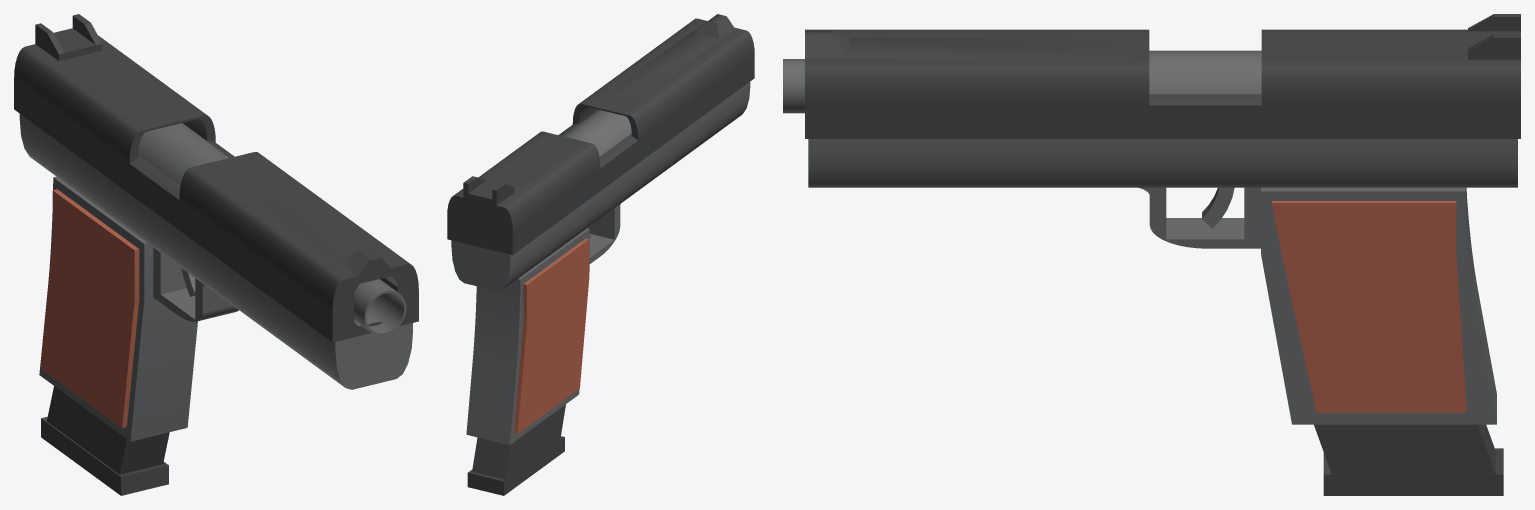
The model's file is pistol.fbx.
The picture shows the model from 3 angles, left to right: view 1: azimuth 30°, elevation 25°; view 2: azimuth 150°, elevation 25°; view 3: azimuth 270°, elevation 25°; orthographic projection. The views are drawn at different scales.
Parts seen in each view (by area): view 1: Cube.001, Cube, Cube.003, Cylinder, Cube.004; view 2: Cube, Cube.001, Cube.003, Cylinder, Cube.004; view 3: Cube, Cube.001, Cube.003, Cylinder, Cube.004.
Part boxes in pixels (x1,y1,x2,y2): Cube.001: (14, 14, 418, 342); Cube: (19, 114, 412, 441); Cube.003: (41, 386, 169, 495); Cylinder: (138, 123, 406, 335); Cube.004: (153, 247, 238, 321); Cube: (451, 82, 750, 445); Cube.001: (447, 14, 754, 255); Cube.003: (467, 404, 565, 495); Cylinder: (562, 109, 631, 156); Cube.004: (587, 204, 620, 263); Cube: (808, 139, 1517, 424); Cube.001: (805, 14, 1520, 138); Cube.003: (1314, 424, 1503, 495); Cylinder: (783, 50, 1261, 113); Cube.004: (1138, 187, 1260, 248).
Bounding box in the file's own units: 32 × 144 × 211.
